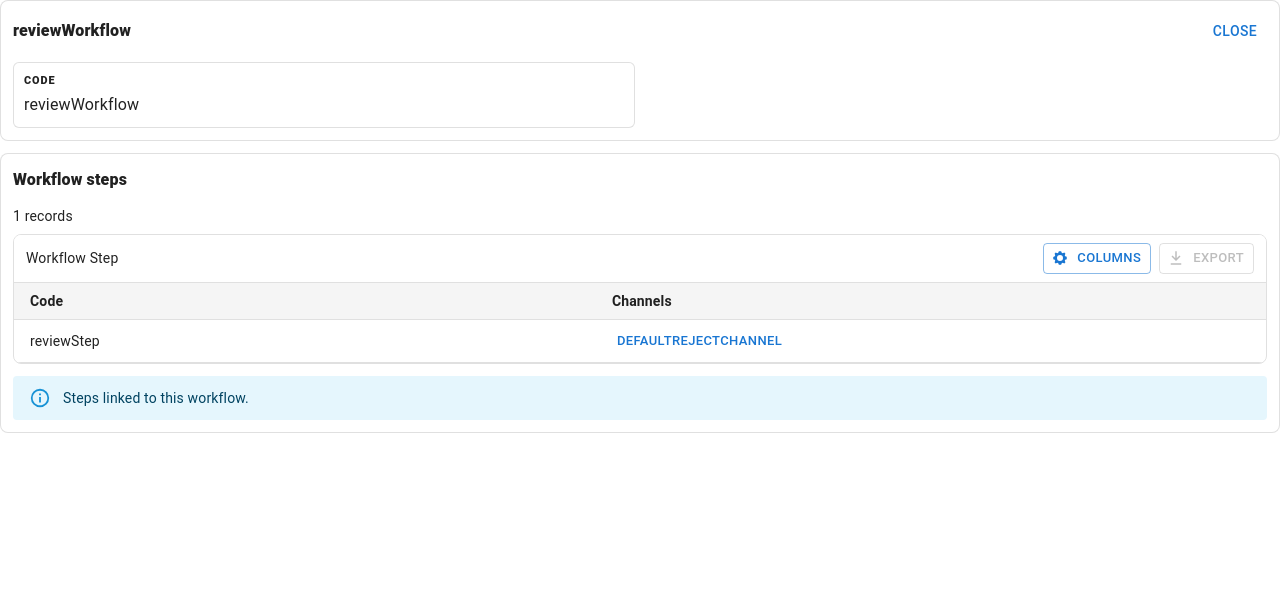
Test: WorkbenchRecordDetail › opens references from related-record detail panel tables
Click the button "defaultRejectChannel" at (700, 341), box [612,326,787,356]
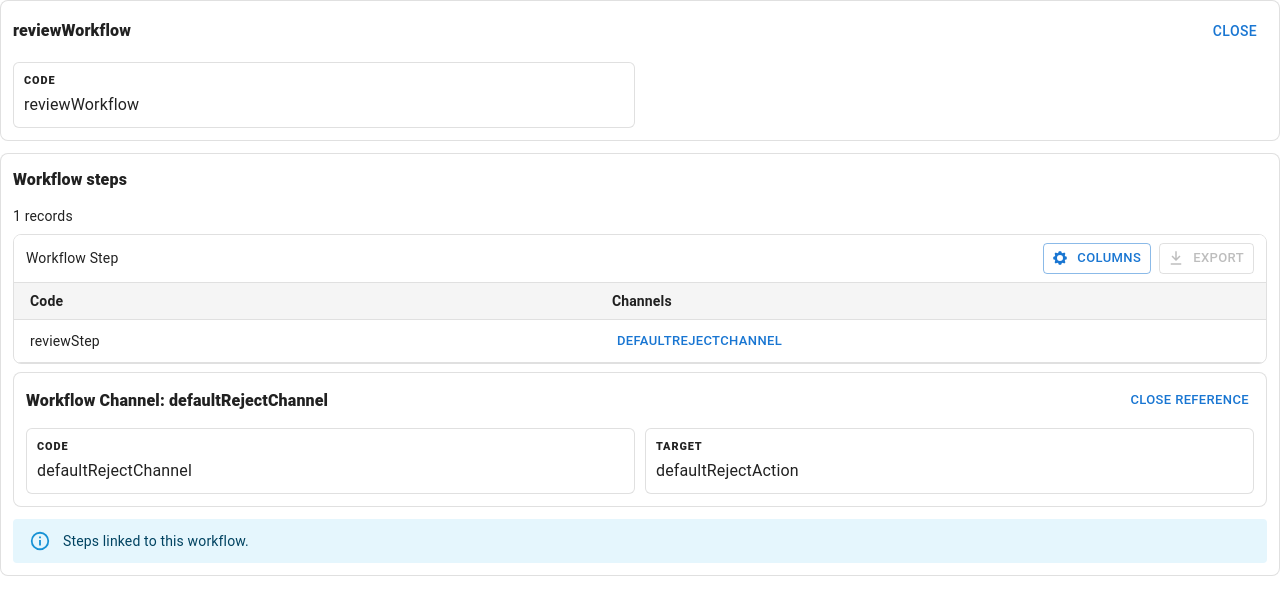
Expected: the heading "Workflow Channel: defaultRejectChannel" is shown, [26,387,328,415]
Expected: the text "defaultRejectAction" is shown, [656,461,799,480]
